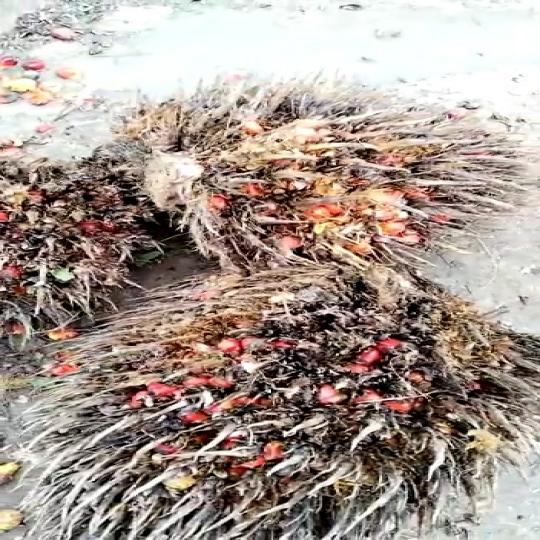terlalu masak: (0, 256, 540, 540), (96, 88, 540, 264)
